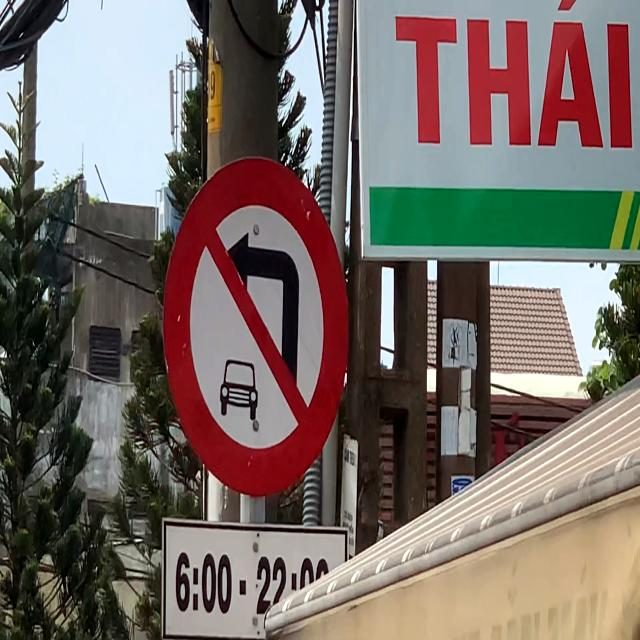P.103c: (166, 153, 353, 503)
